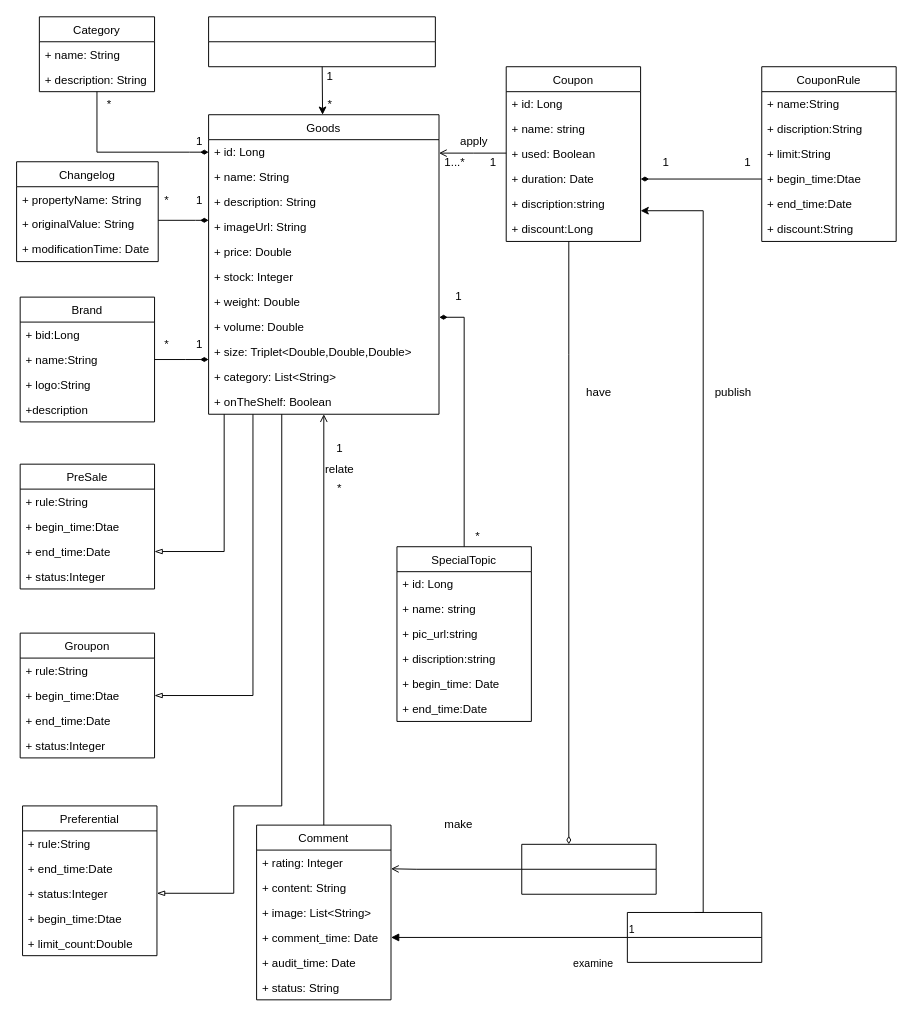
The diagram is 914 pixels wide and 1020 high, and some of its shapes have lost their labels. The centre of each missing label's shape, as x and y in pixels:
"Administrator_1-5" belongs at [694,937].
"Customer_1-5" belongs at [588,868].
"Order_3-2" belongs at [321,41].
